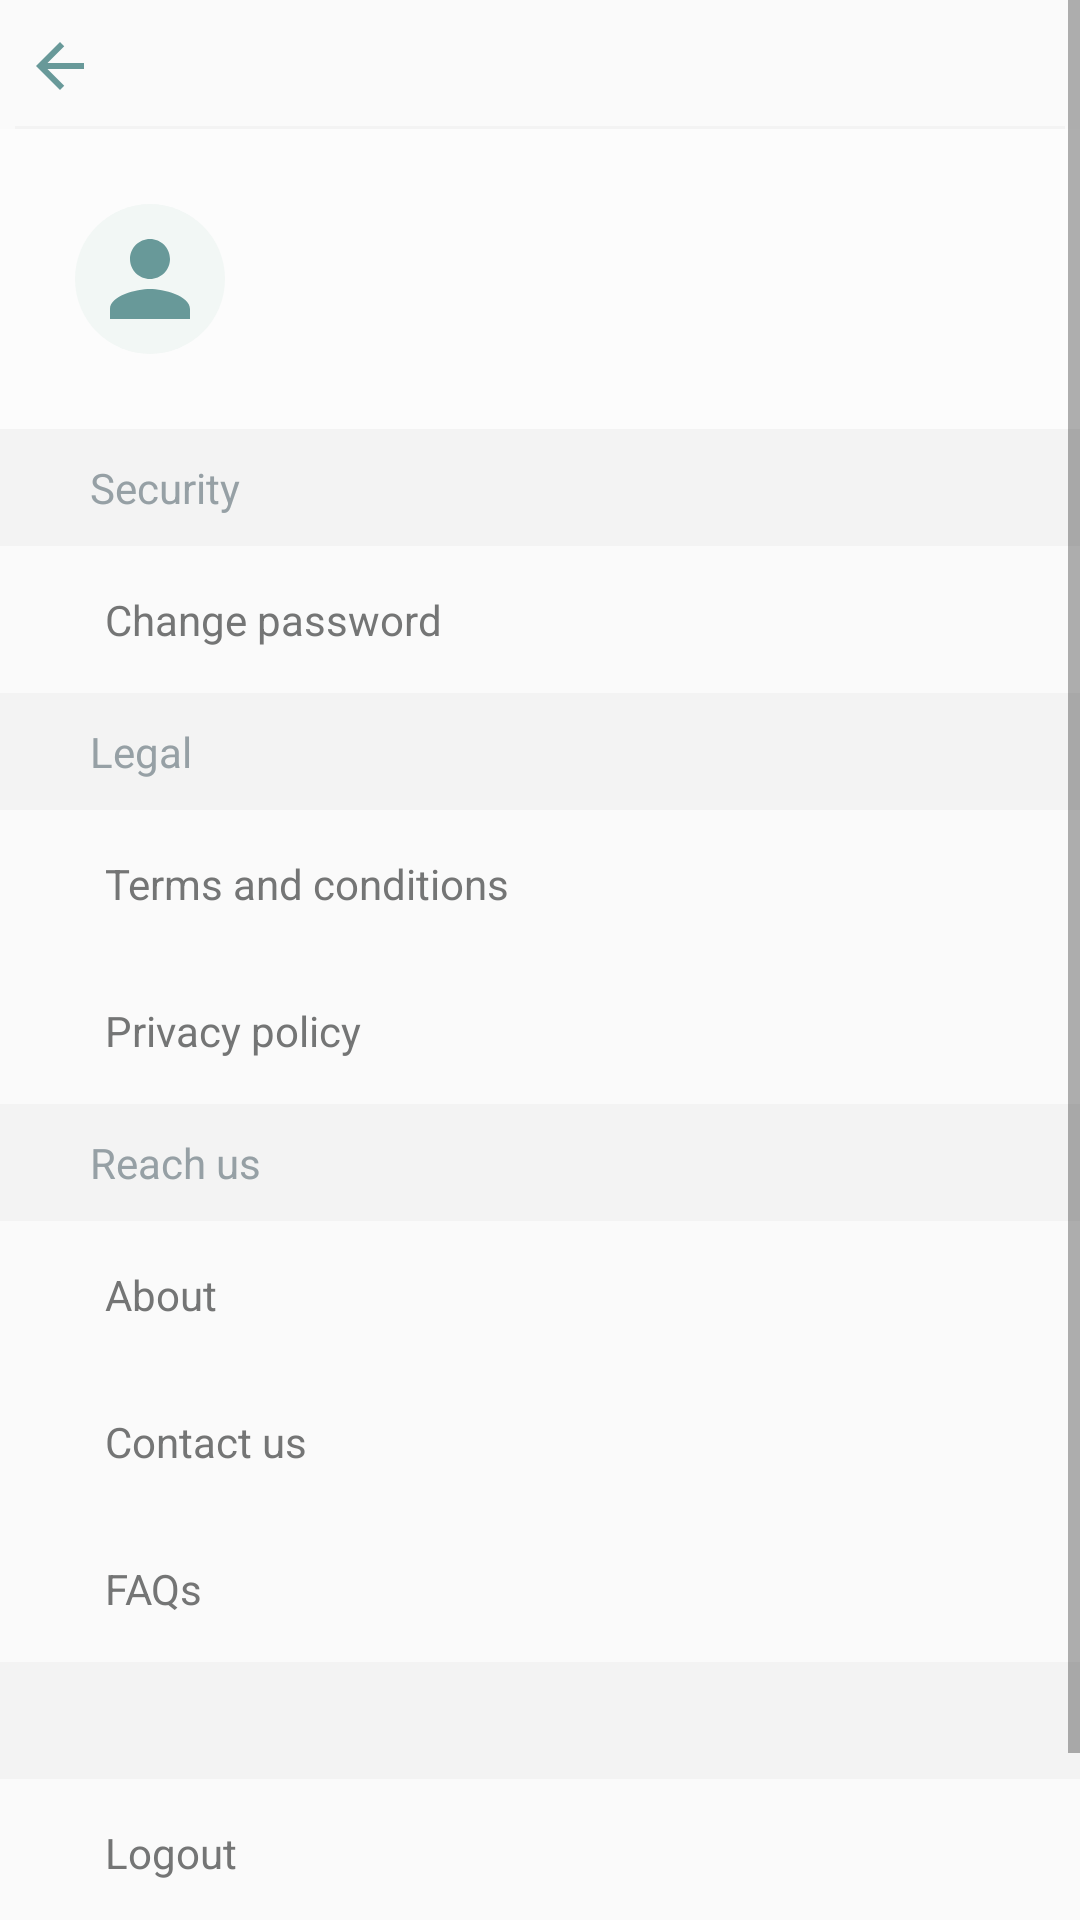

Screen size 1080px×1920px. Icon name, then its center in pixels as point (x, y):
person: point (150, 279)
